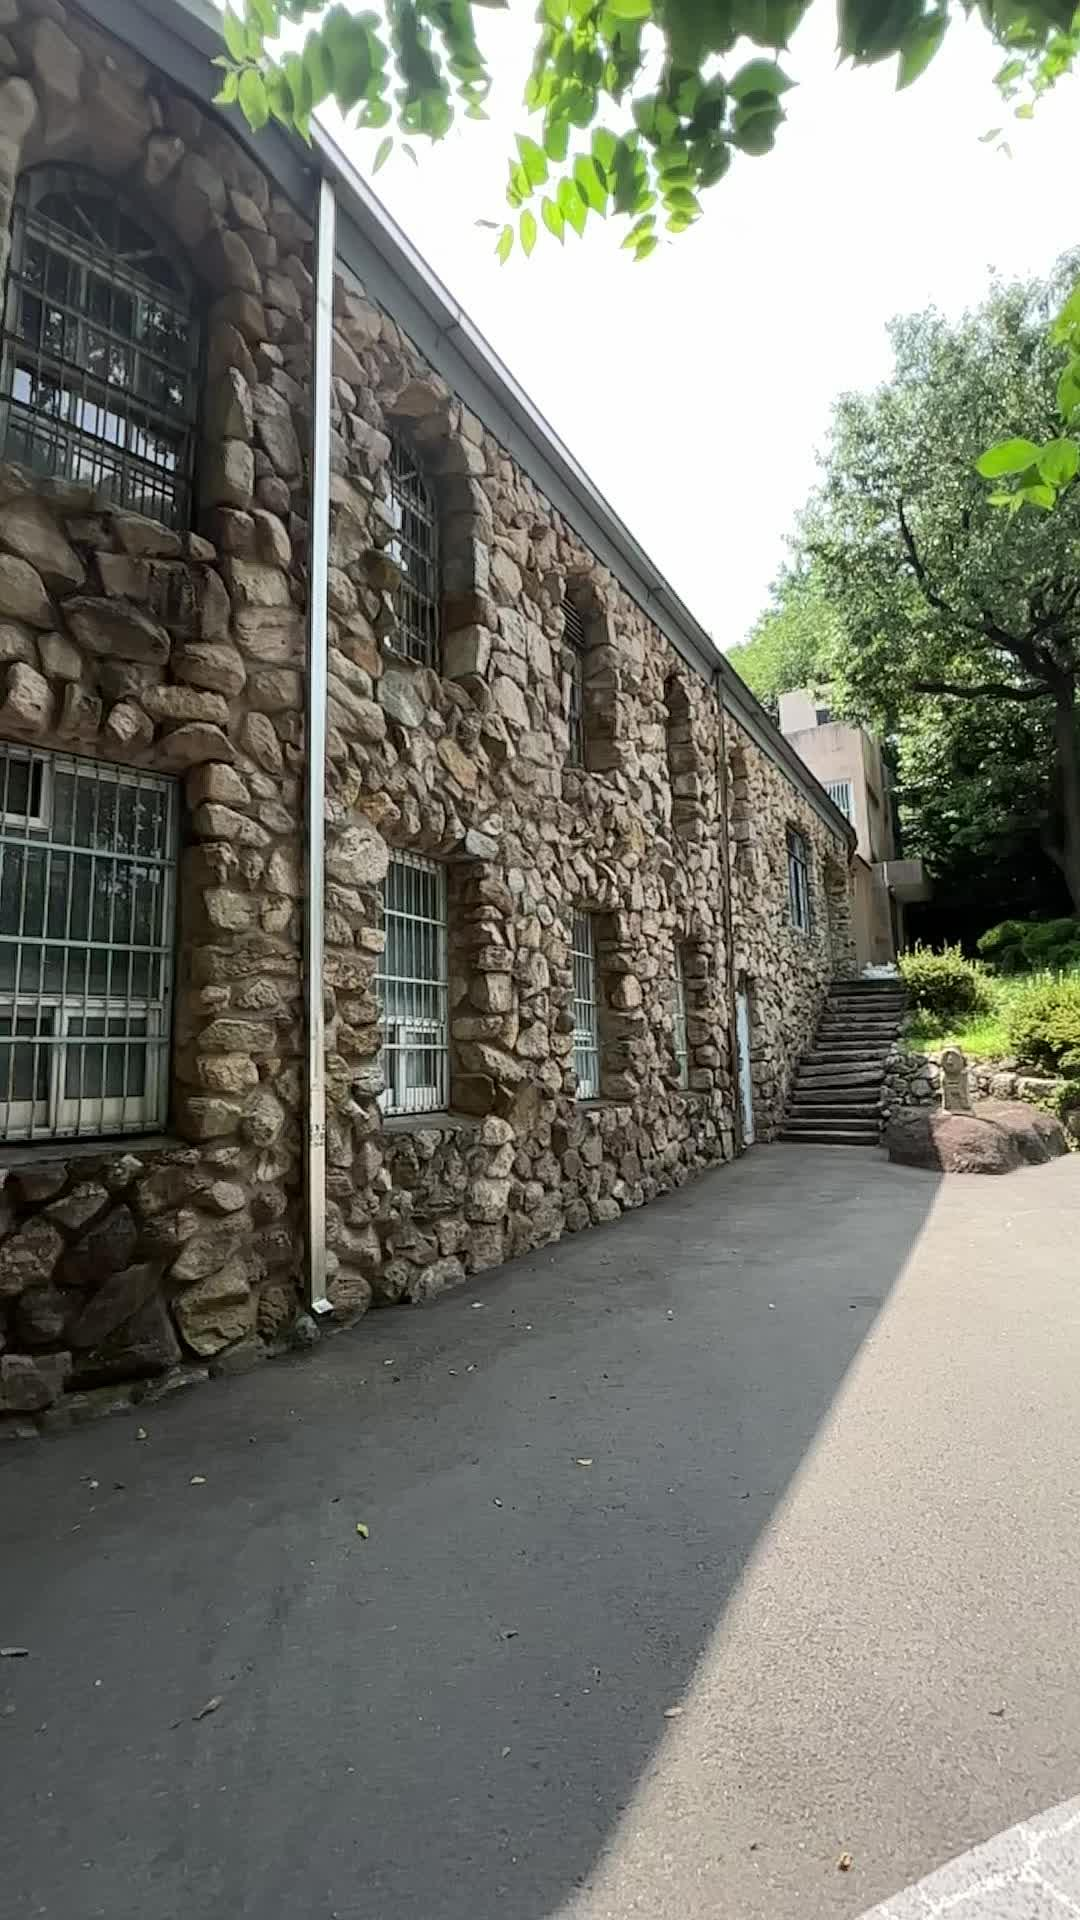building: (0, 182, 823, 1258)
